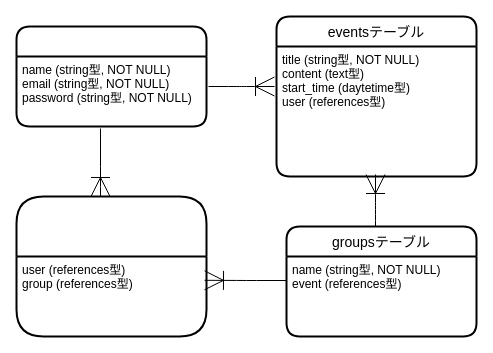
Some shapes in this 493 by 353 pixel diagram are drawn without their labels. Here are the shapes that lost their labels. From the top down, the box of each, then its label:
(15, 25, 207, 127): usersテーブル
(15, 195, 207, 337): group_usersテーブル (中間テーブル)
